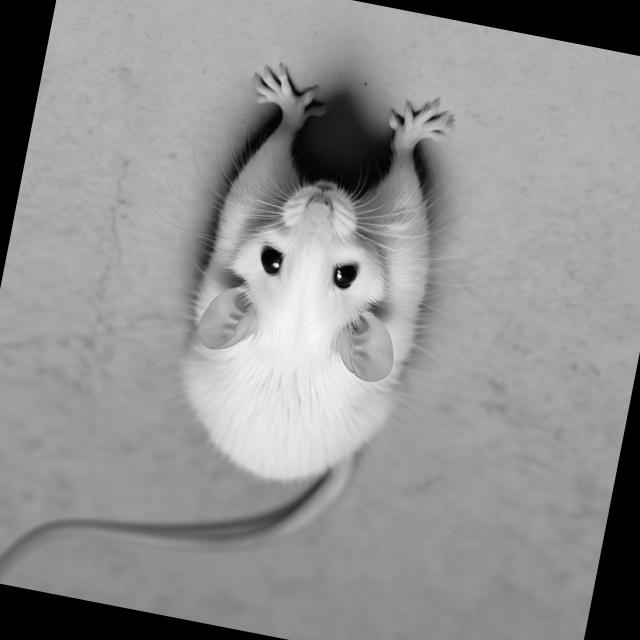rodents: (145, 92, 464, 501)
